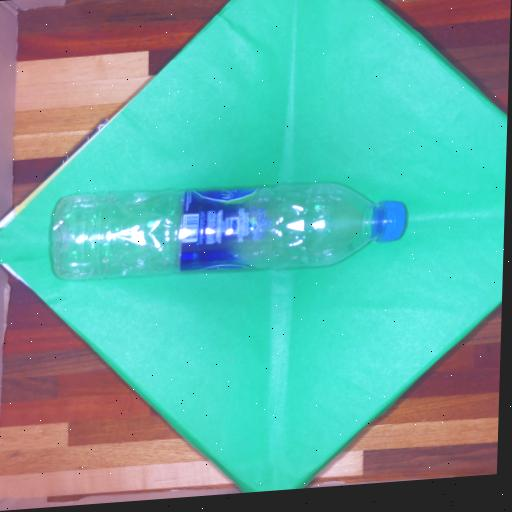bottle: (46, 170, 409, 290)
